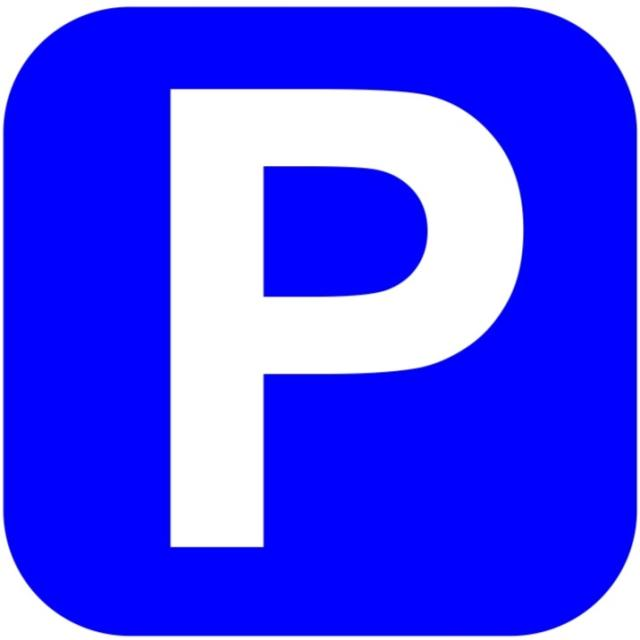parking: (4, 5, 636, 637)
